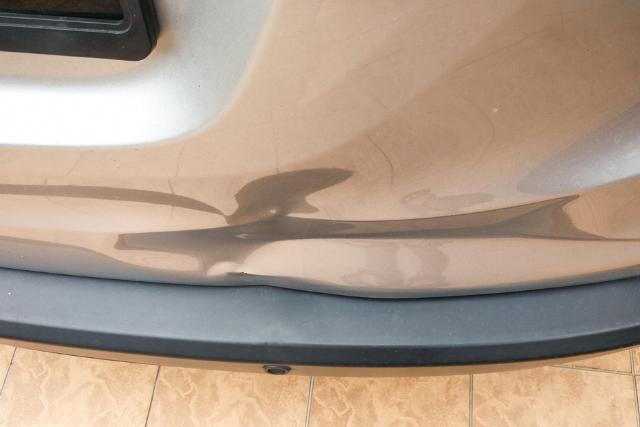Dickey: (101, 159, 640, 291)
